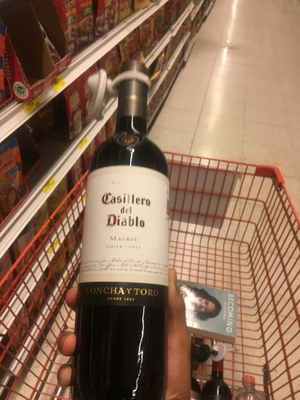casillero del diablo malbec: (70, 78, 172, 400)
